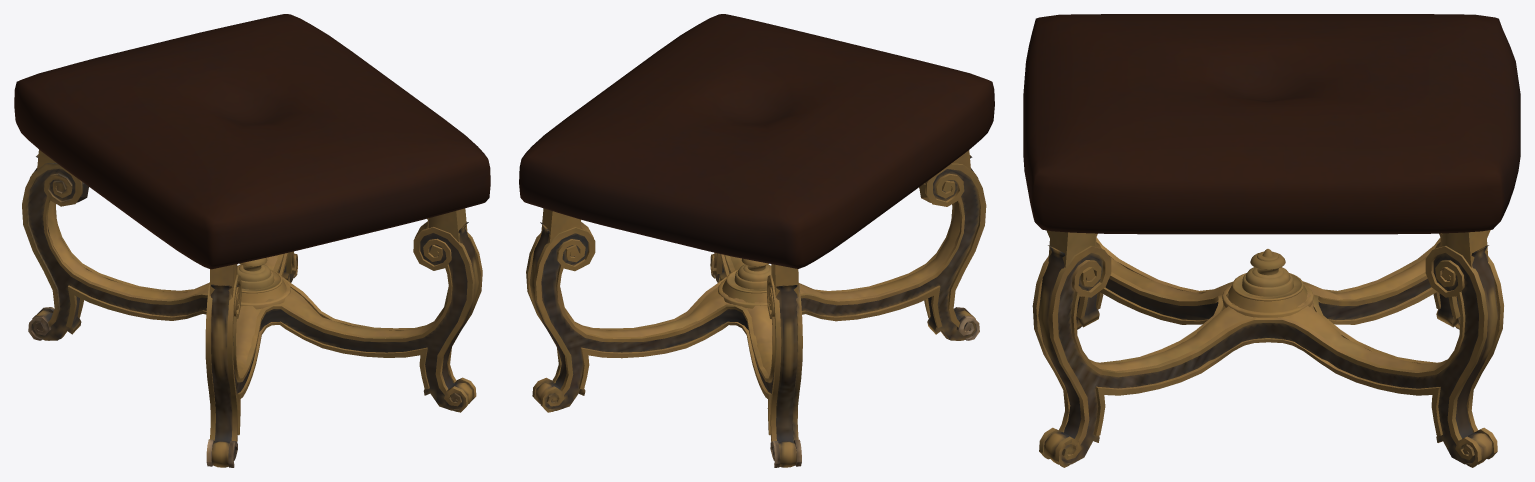
The model's file is SM_BooklynPianoChair.fbx.
The picture shows the model from 3 angles, left to right: view 1: azimuth 30°, elevation 25°; view 2: azimuth 150°, elevation 25°; view 3: azimuth 270°, elevation 25°; orthographic projection. The views are drawn at different scales.
Parts seen in each view (by area): view 1: SM_BooklynPianoChair_LOD0; view 2: SM_BooklynPianoChair_LOD0; view 3: SM_BooklynPianoChair_LOD0.
Part boxes in pixels (x1,y1,x2,y2): SM_BooklynPianoChair_LOD0: (14,14,490,467); SM_BooklynPianoChair_LOD0: (519,14,994,467); SM_BooklynPianoChair_LOD0: (1023,14,1520,467).
Bounding box in the file's own units: 86.36 × 105 × 74.98.
1 material, 1 textured.
